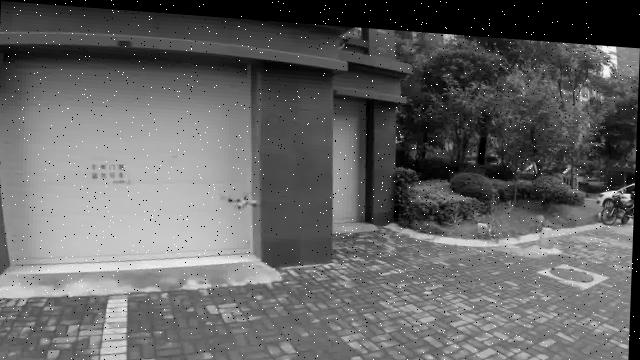drone: (216, 170, 264, 211)
